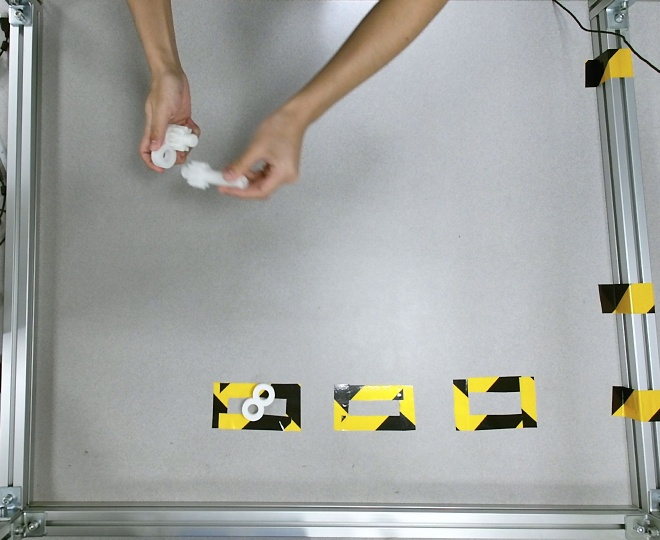stage_2: (150, 122, 197, 169)
